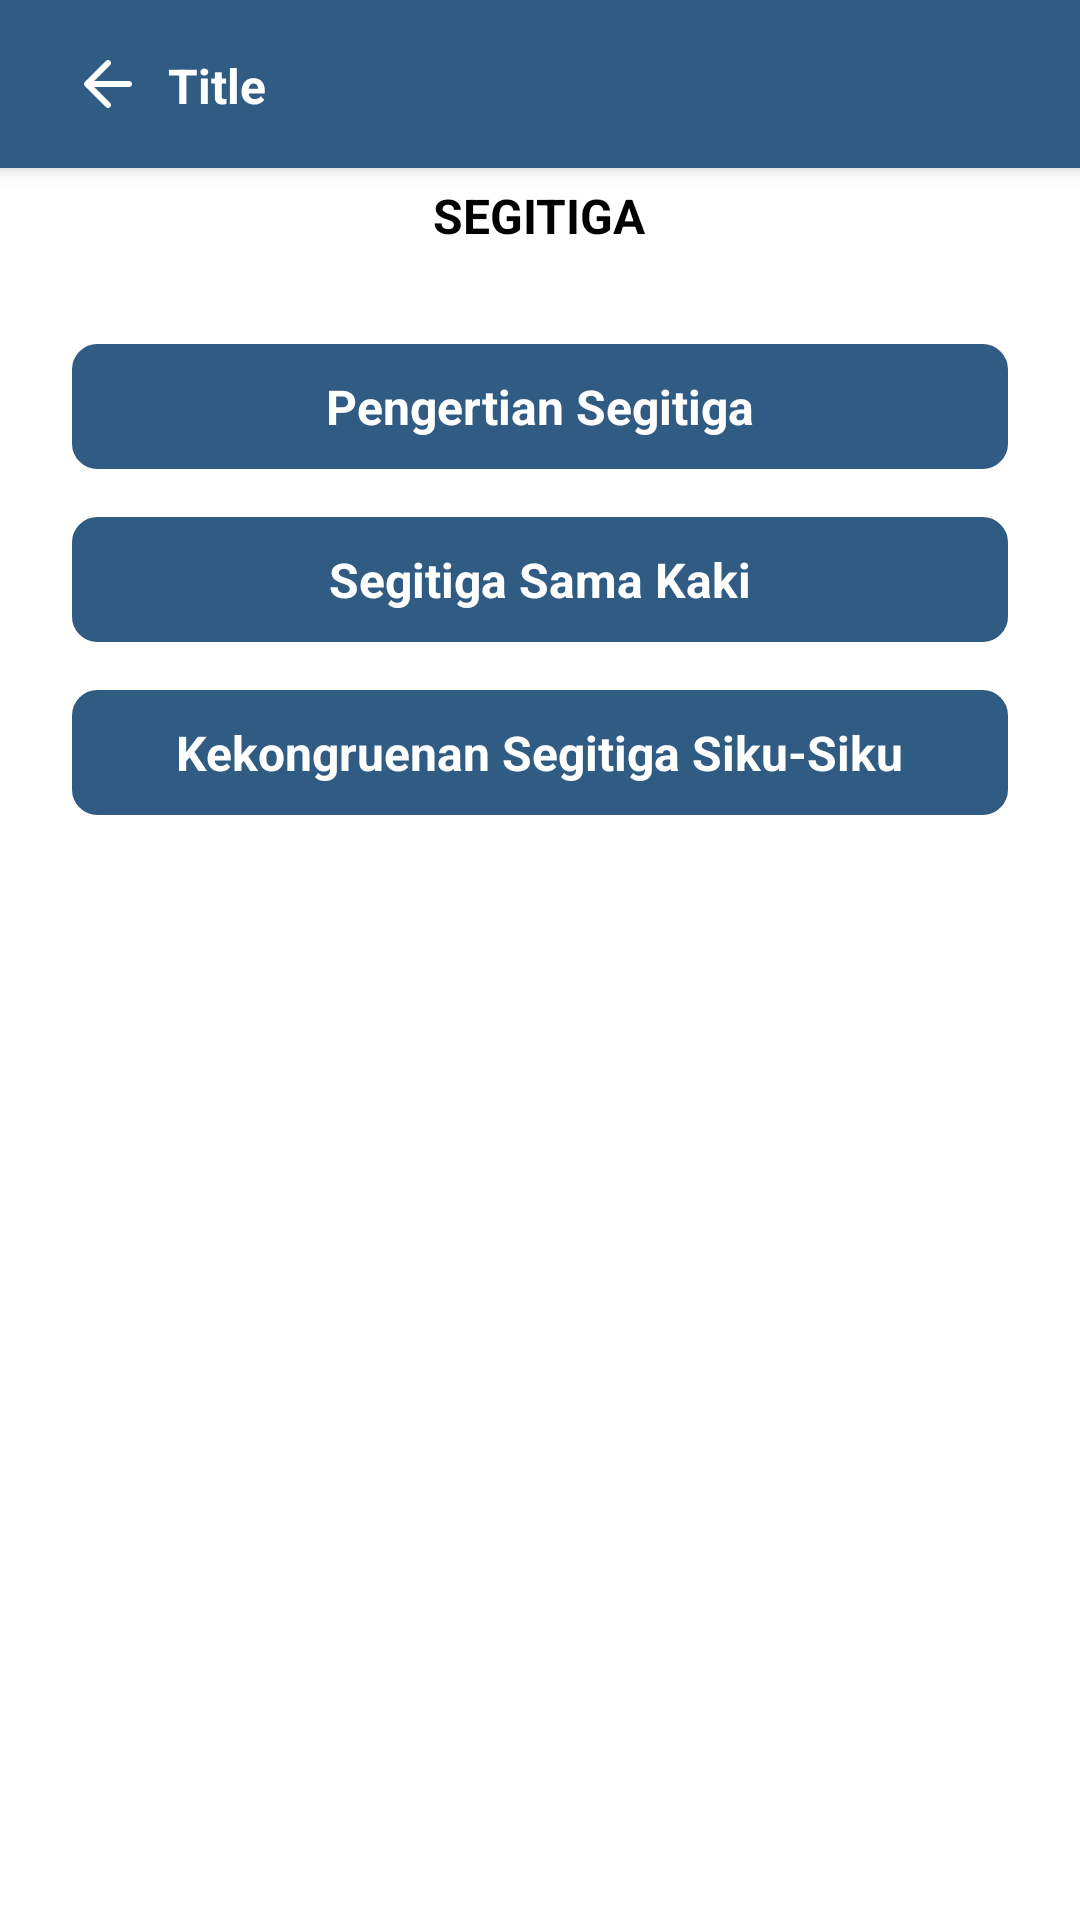

Where icons sit on this 1080px x 1920px app screen, as region(x1, y1, x2, y2):
arrow left: region(84, 60, 132, 108)
